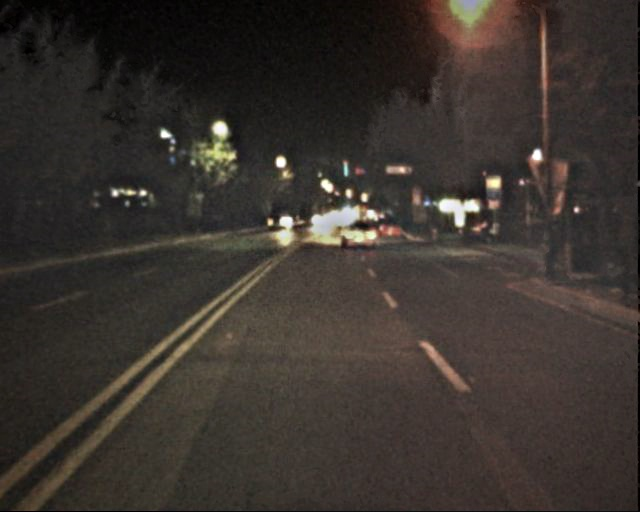person: (531, 227, 559, 296)
